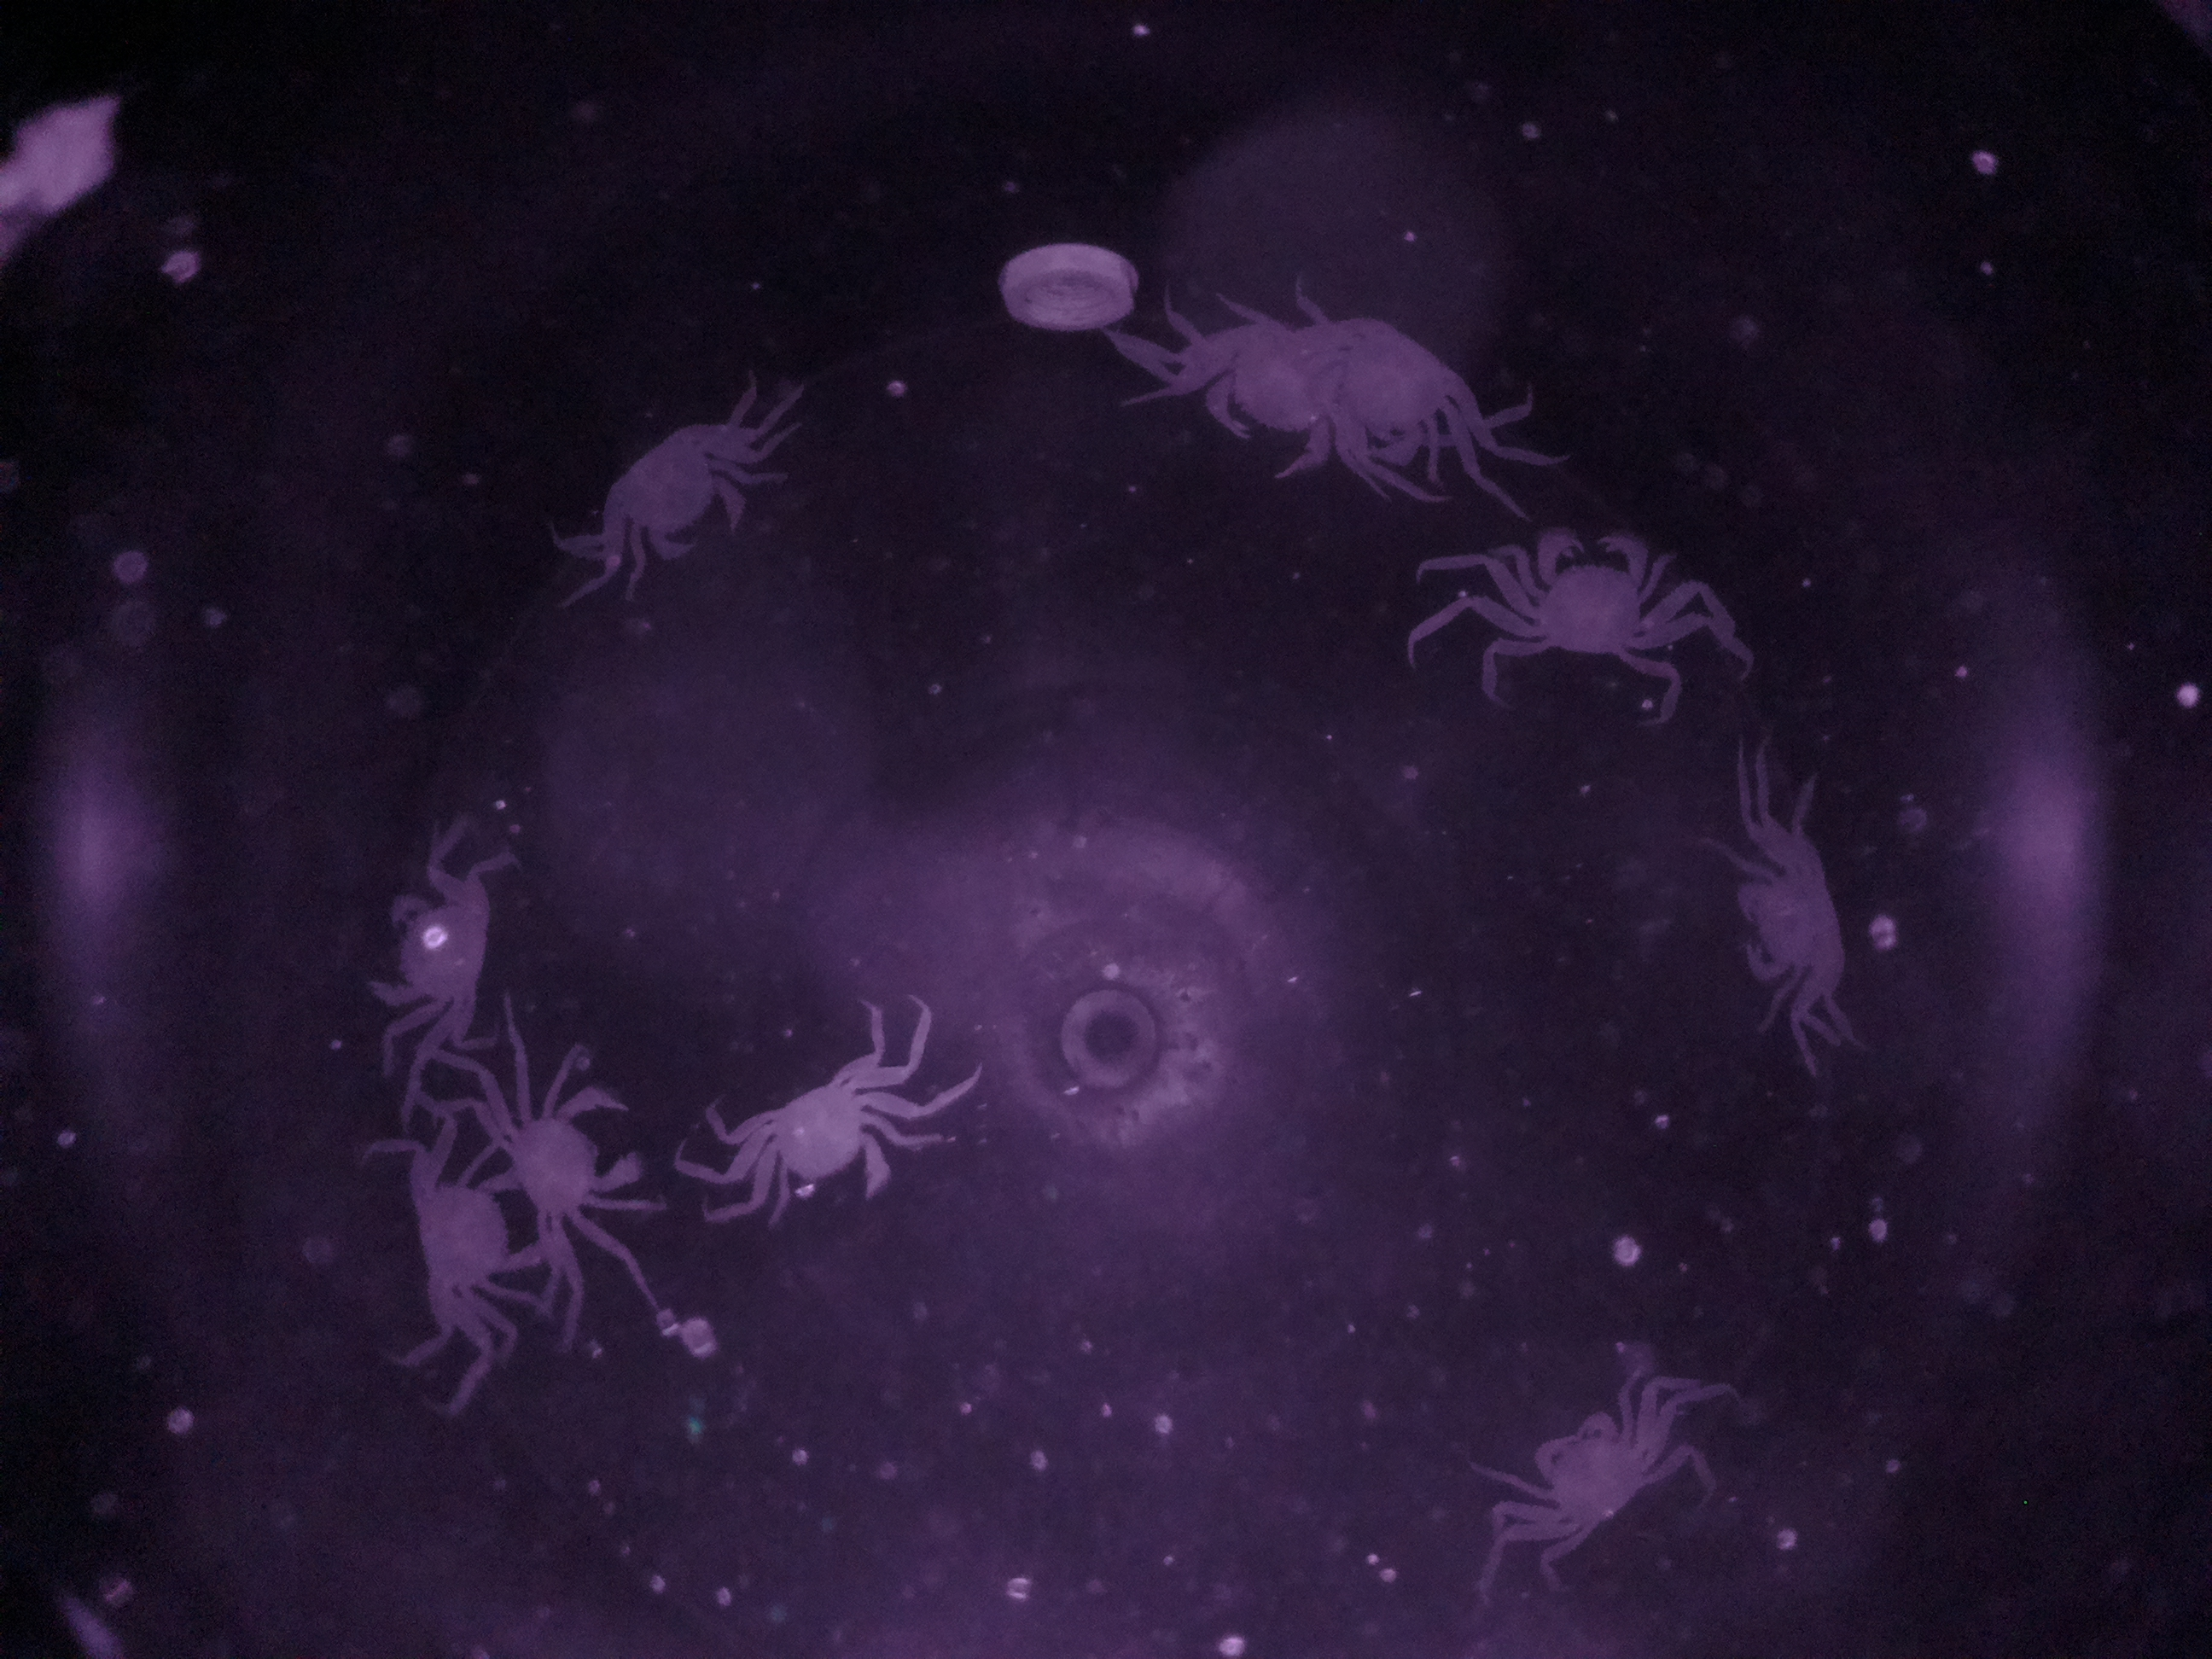Crab: (475, 1072, 672, 1270), (385, 1155, 540, 1399), (361, 840, 526, 1051), (1472, 516, 1688, 664), (1714, 840, 1878, 1021), (745, 1060, 920, 1225), (606, 404, 759, 582), (1526, 1387, 1683, 1551)
